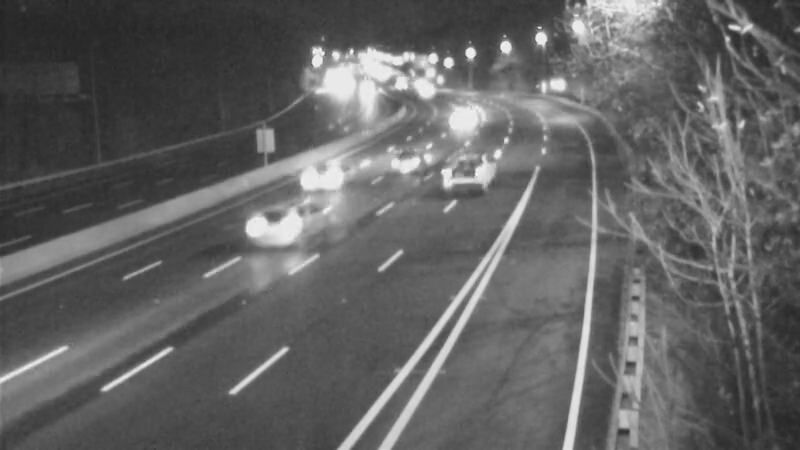vehicle: (367, 123, 447, 203), (431, 137, 511, 217), (293, 128, 373, 208), (225, 193, 305, 273), (398, 68, 448, 118), (448, 84, 498, 134), (438, 95, 488, 145), (340, 67, 390, 117)
